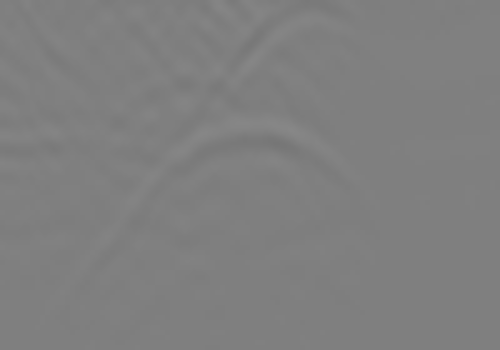hyperbola: (89, 120, 398, 290)
